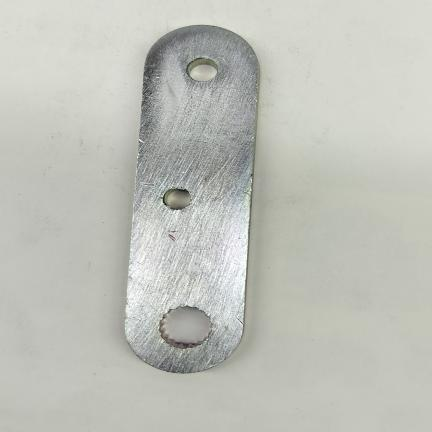electroplating defect: (157, 56, 186, 117)
